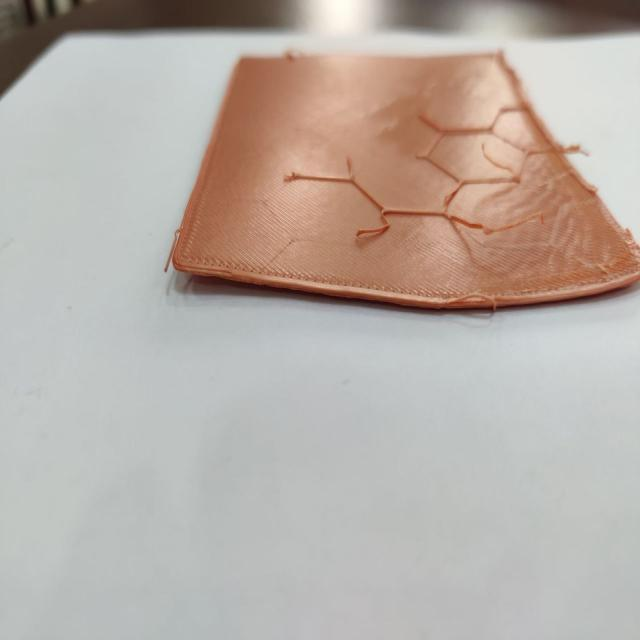cracks: (129, 236, 323, 338)
